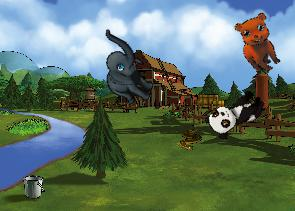bear: (227, 7, 293, 78)
elephant: (81, 28, 169, 110)
panda: (202, 83, 269, 143)
